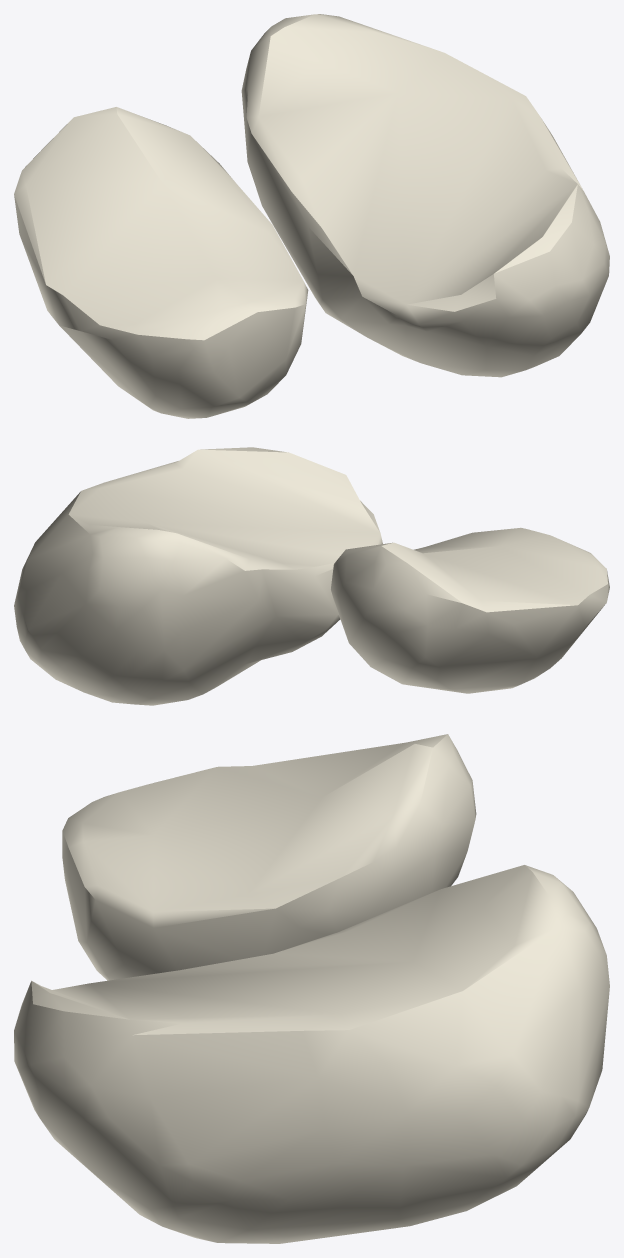
File: fma45098.glb
The picture shows the model from 3 angles, top to bottom: view 1: azimuth 30°, elevation 25°; view 2: azimuth 150°, elevation 25°; view 3: azimuth 270°, elevation 25°; orthographic projection. The views are drawn at different scales.
Parts seen in each view (by area): view 1: FMA45098; view 2: FMA45098; view 3: FMA45098.
Part boxes in pixels (bbox=[...]): FMA45098: bbox=[14, 14, 609, 418]; FMA45098: bbox=[14, 447, 609, 705]; FMA45098: bbox=[14, 734, 609, 1243].
Size of the model in its own units: 0.0166 by 0.0077 by 0.0132.
